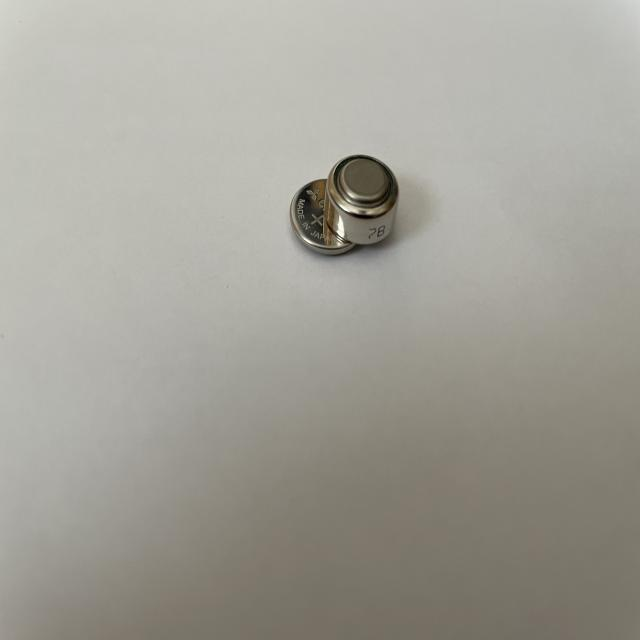COIN: (325, 156, 400, 248), (291, 177, 354, 255)
